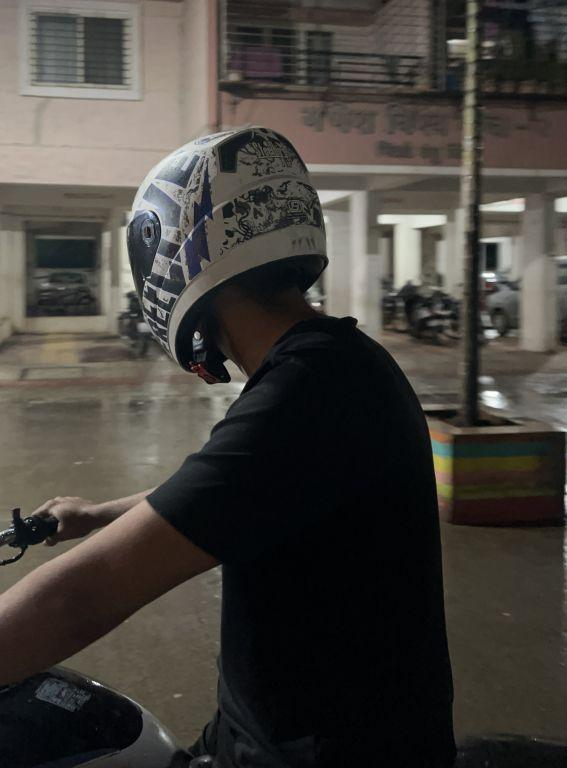helmet: (112, 109, 348, 392)
